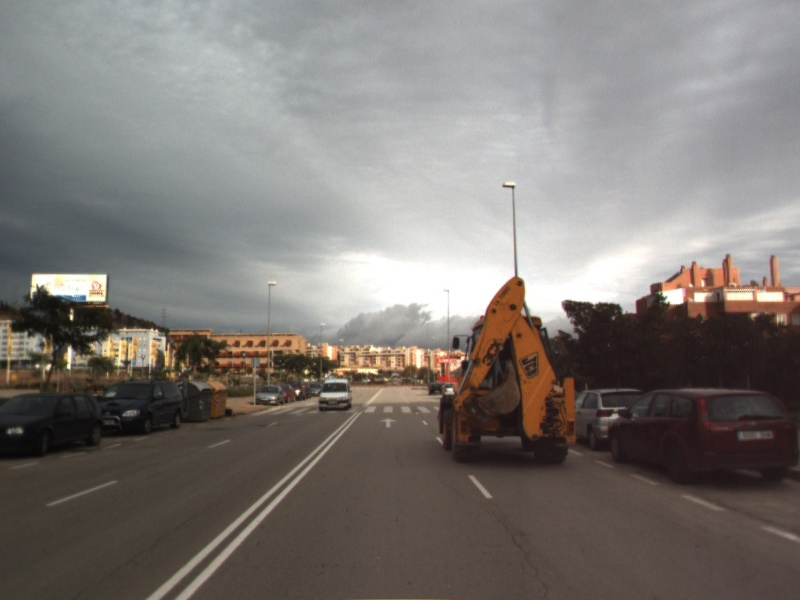STRAIGHT: (378, 415, 398, 429)
